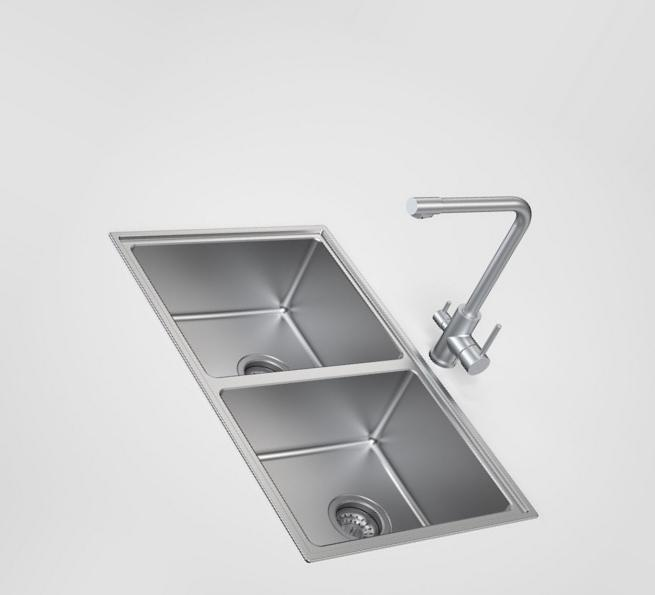Lavaplatos: (80, 168, 584, 581)
